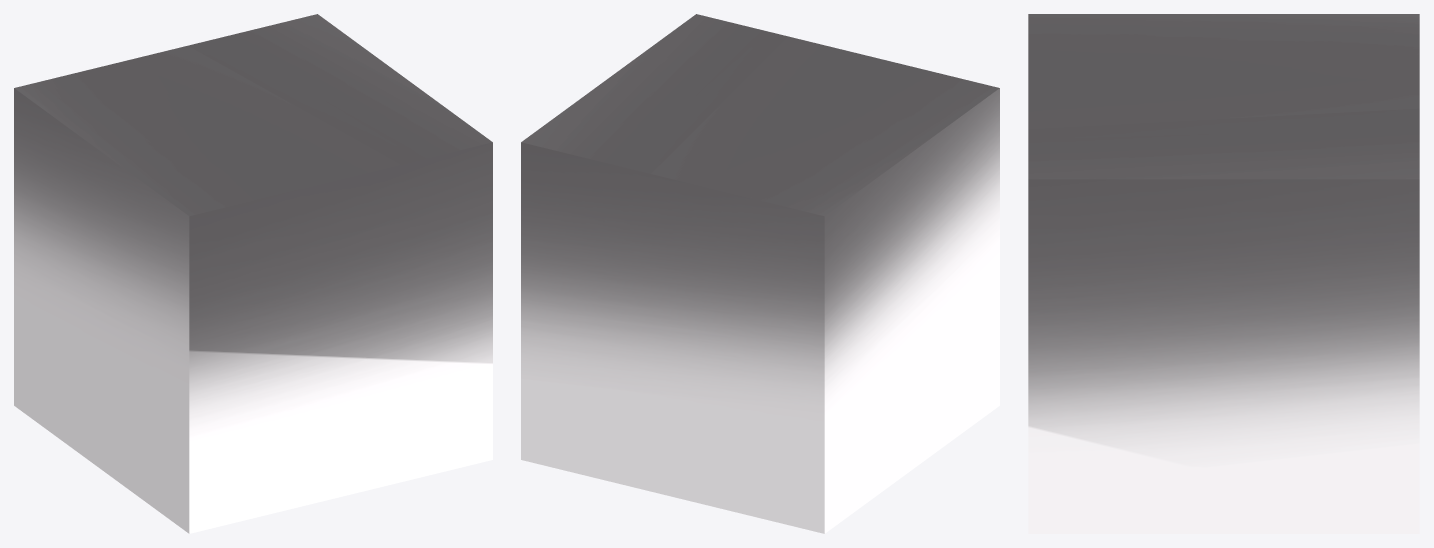
Rendered from stage.glb.
3 views of the same model, side by side, from view 1: azimuth 30°, elevation 25°; view 2: azimuth 150°, elevation 25°; view 3: azimuth 270°, elevation 25° (orthographic). The views are drawn at different scales.
Parts seen in each view (by area): view 1: Cube.001; view 2: Cube.001; view 3: Cube.001.
Part boxes in pixels (x1=…): Cube.001: x1=14, y1=14, x2=492, y2=533; Cube.001: x1=521, y1=14, x2=999, y2=533; Cube.001: x1=1028, y1=14, x2=1419, y2=533.
Bounding box in the file's own units: 14.34 × 14.34 × 14.34.
Materials: 5 (1 with a texture image).
